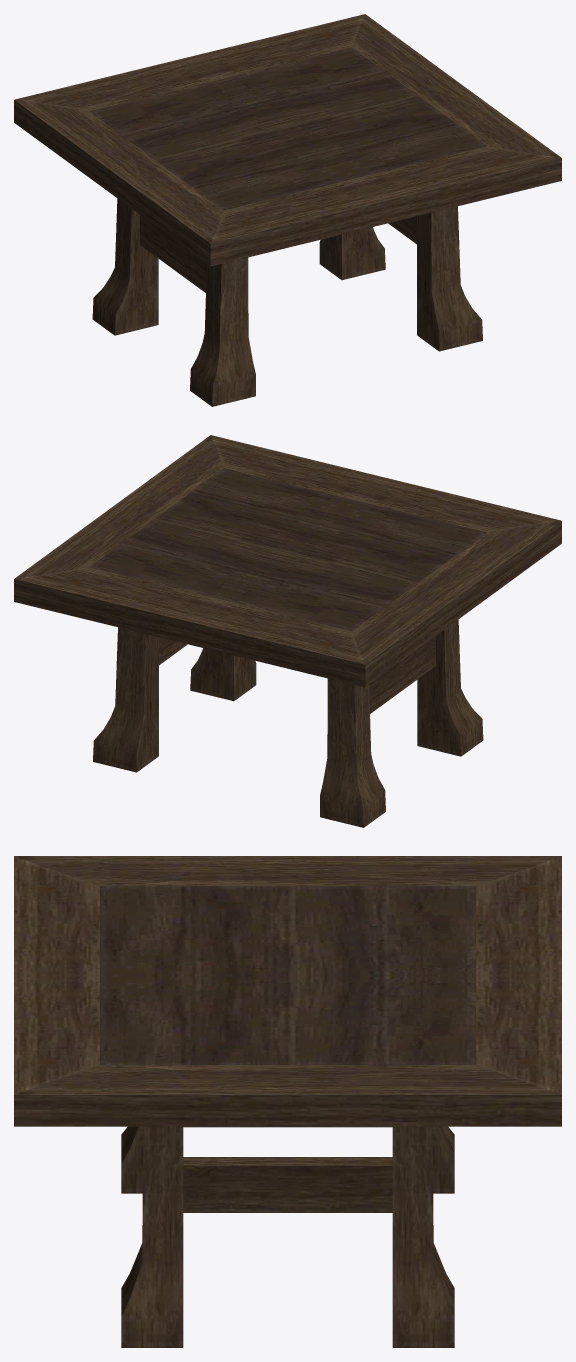
The model's file is eso_gu2_woodfurniture12-transformed.glb.
3 views of the same model, one above another, from view 1: azimuth 30°, elevation 25°; view 2: azimuth 150°, elevation 25°; view 3: azimuth 270°, elevation 25° (orthographic). The views are drawn at different scales.
Visible parts, largest first — view 1: default; view 2: default; view 3: default.
Part boxes in pixels (x1,y1,x2,y2): default: (14,14,561,406); default: (14,435,561,827); default: (14,856,561,1347).
Size of the model in its own units: 1.72 by 0.941 by 1.67.
Materials: 1 (1 with a texture image).
